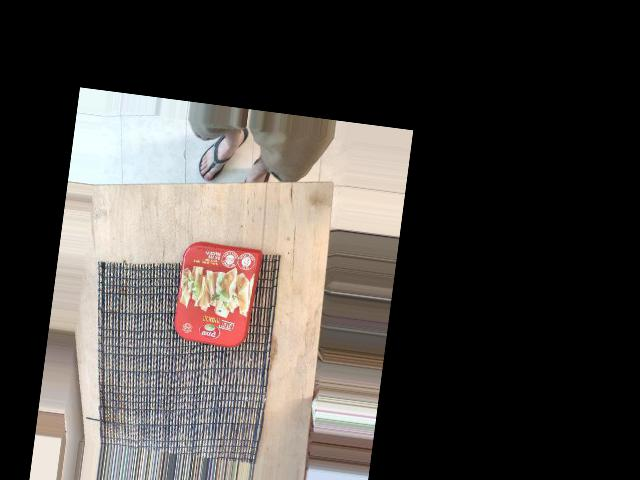cheese: (95, 267, 234, 372)
